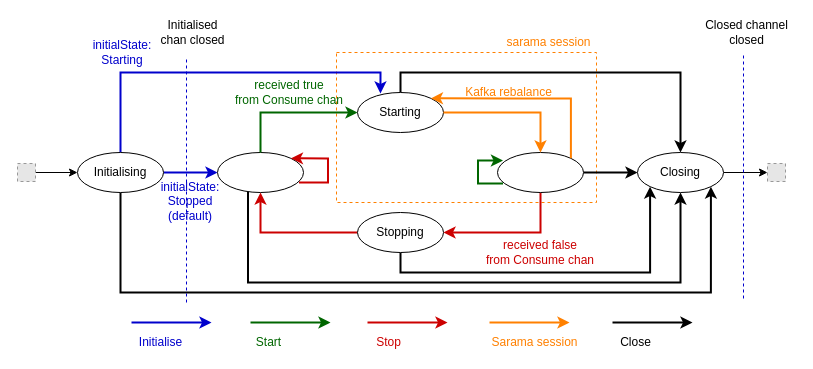
This 813x369 diagram has some shape labels left out. Grey dashed boxes stand in for pictures. Each missing label, with the centre of its shape:
"Consuming" goes at point (540, 172).
"Stopped" goes at point (260, 172).
